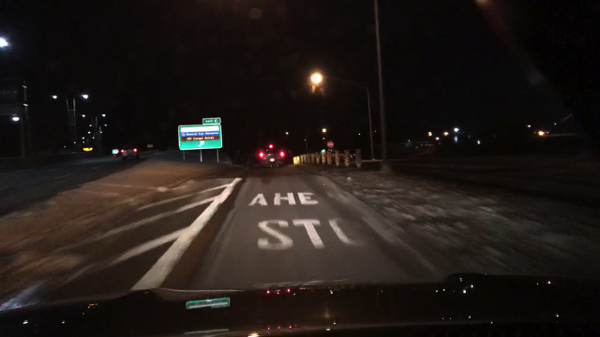car: (256, 143, 287, 166), (120, 144, 139, 160)
traffic sign: (177, 125, 221, 150), (202, 118, 220, 125), (326, 140, 334, 148), (112, 148, 119, 154)
